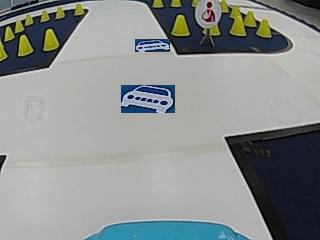cone: (229, 8, 245, 36), (171, 15, 190, 37), (43, 29, 59, 50), (256, 18, 272, 38), (18, 35, 33, 55), (245, 10, 256, 26), (4, 25, 15, 40), (0, 40, 8, 60), (73, 3, 84, 16), (55, 6, 66, 19), (40, 10, 50, 22), (151, 0, 164, 9), (25, 13, 34, 25), (169, 0, 182, 8), (15, 20, 24, 31)
patient: (196, 0, 220, 26)
